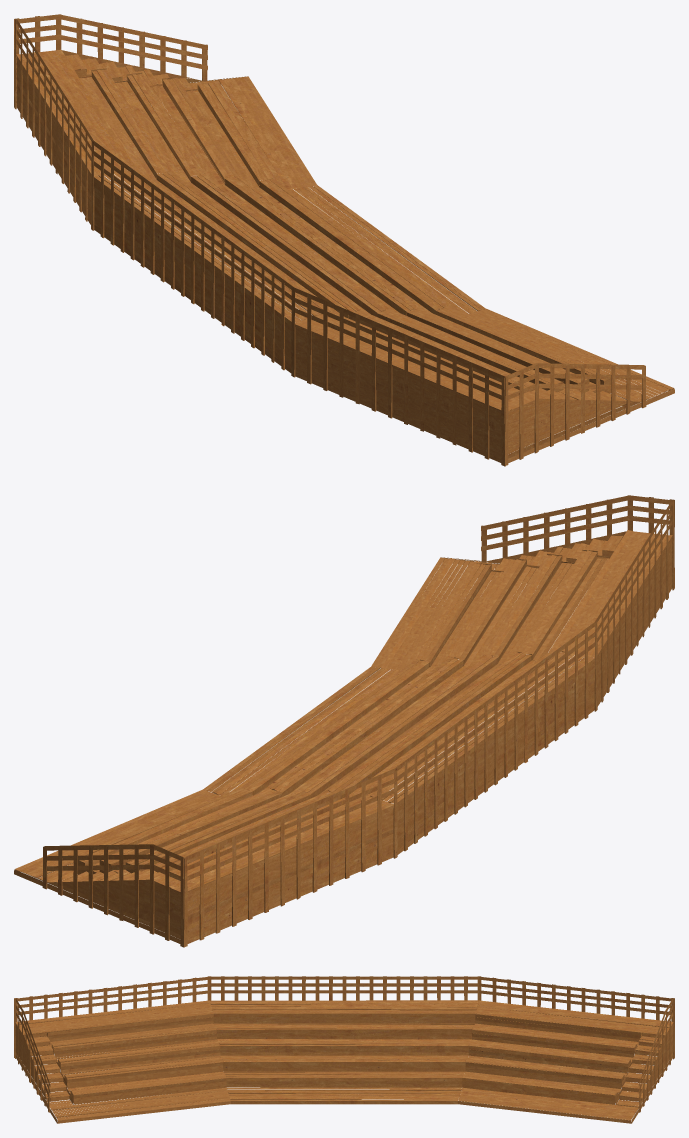
Rendered from platform.glb.
The picture shows the model from 3 angles, top to bottom: view 1: azimuth 30°, elevation 25°; view 2: azimuth 150°, elevation 25°; view 3: azimuth 270°, elevation 25°; orthographic projection. The views are drawn at different scales.
Visible parts, largest first — view 1: Трибуна; view 2: Трибуна; view 3: Трибуна.
Part boxes in pixels (x1,y1,x2,y2): Трибуна: (14, 14, 674, 466); Трибуна: (14, 495, 674, 947); Трибуна: (14, 976, 674, 1123).
Bounding box in the file's own units: 8.97 × 2.83 × 28.3.
Materials: 1 (1 with a texture image).
